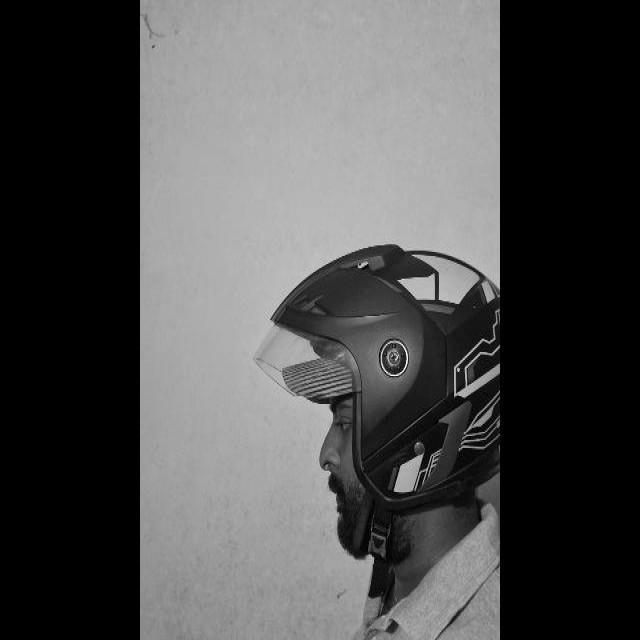5_casco: (252, 242, 500, 506)
